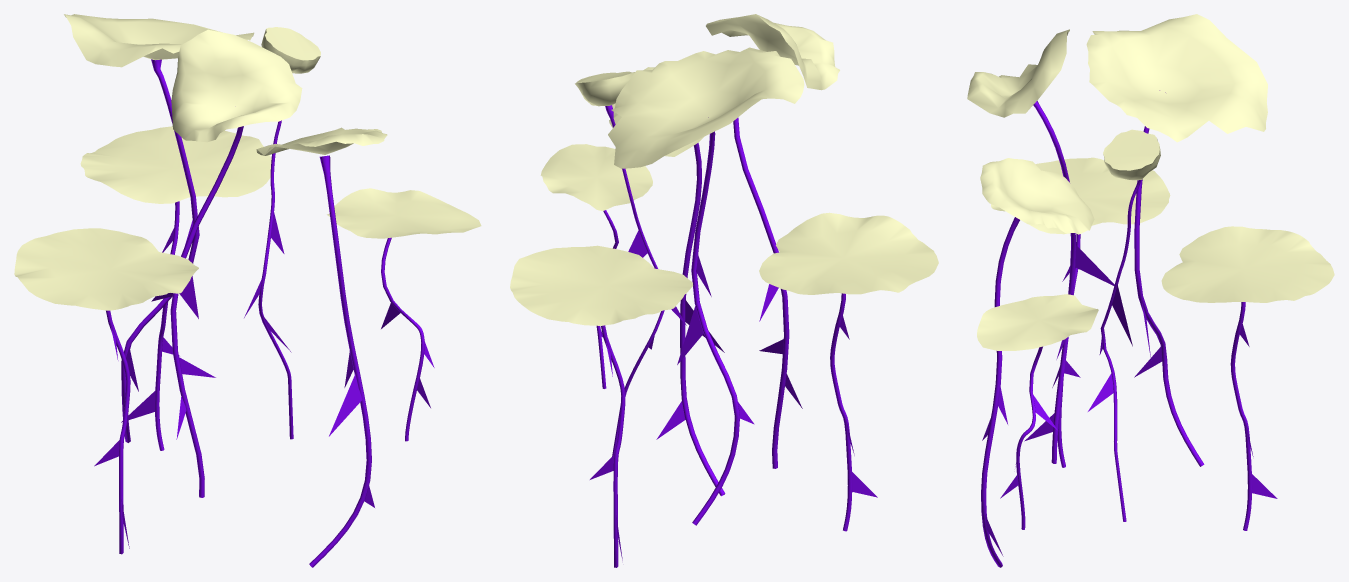
The model's file is Lotus_A.FBX.
3 views of the same model, side by side, from view 1: azimuth 30°, elevation 25°; view 2: azimuth 150°, elevation 25°; view 3: azimuth 270°, elevation 25° (orthographic). The views are drawn at different scales.
Visible parts, largest first — view 1: Geometry_Lotus_B_LOD00; view 2: Geometry_Lotus_B_LOD00; view 3: Geometry_Lotus_B_LOD00.
Part boxes in pixels (bbox=[...]): Geometry_Lotus_B_LOD00: bbox=[14, 14, 481, 567]; Geometry_Lotus_B_LOD00: bbox=[510, 14, 938, 567]; Geometry_Lotus_B_LOD00: bbox=[967, 14, 1334, 567].
Size of what is drawn, in the model's own units: 107 by 131 by 86.52.
